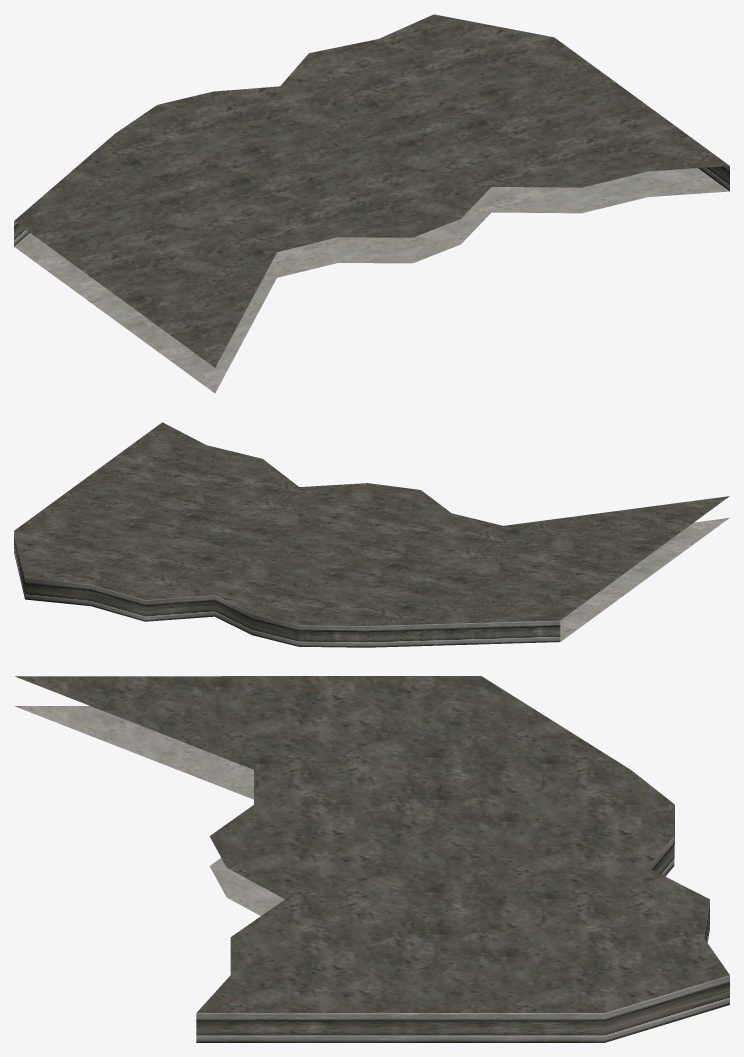
Rendered from DWARF_PALACE_MAINHALL_CAVEPLATFRM02.fbx.
3 views of the same model, one above another, from view 1: azimuth 30°, elevation 25°; view 2: azimuth 150°, elevation 25°; view 3: azimuth 270°, elevation 25° (orthographic). The views are drawn at different scales.
Parts seen in each view (by area): view 1: DWARF_PALACE_MAINHALL_CAVEPLATFRM02; view 2: DWARF_PALACE_MAINHALL_CAVEPLATFRM02; view 3: DWARF_PALACE_MAINHALL_CAVEPLATFRM02.
Boxes of the visible parts, x1,y1,x2,y2 form: DWARF_PALACE_MAINHALL_CAVEPLATFRM02: (14, 14, 729, 393); DWARF_PALACE_MAINHALL_CAVEPLATFRM02: (14, 422, 729, 647); DWARF_PALACE_MAINHALL_CAVEPLATFRM02: (14, 676, 729, 1042).
Bounding box in the file's own units: 121087 × 5000 × 108726.
3 materials, 3 textured.
